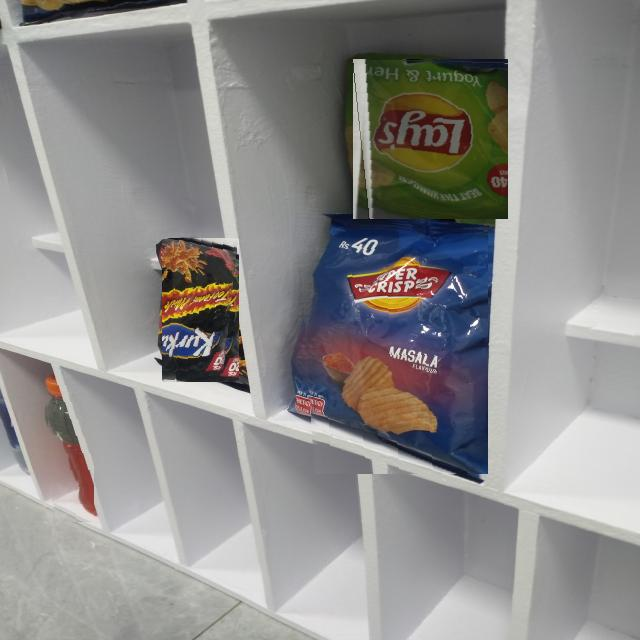Plastic: (298, 224, 488, 474), (352, 58, 508, 219), (162, 238, 239, 382), (45, 376, 94, 522)
